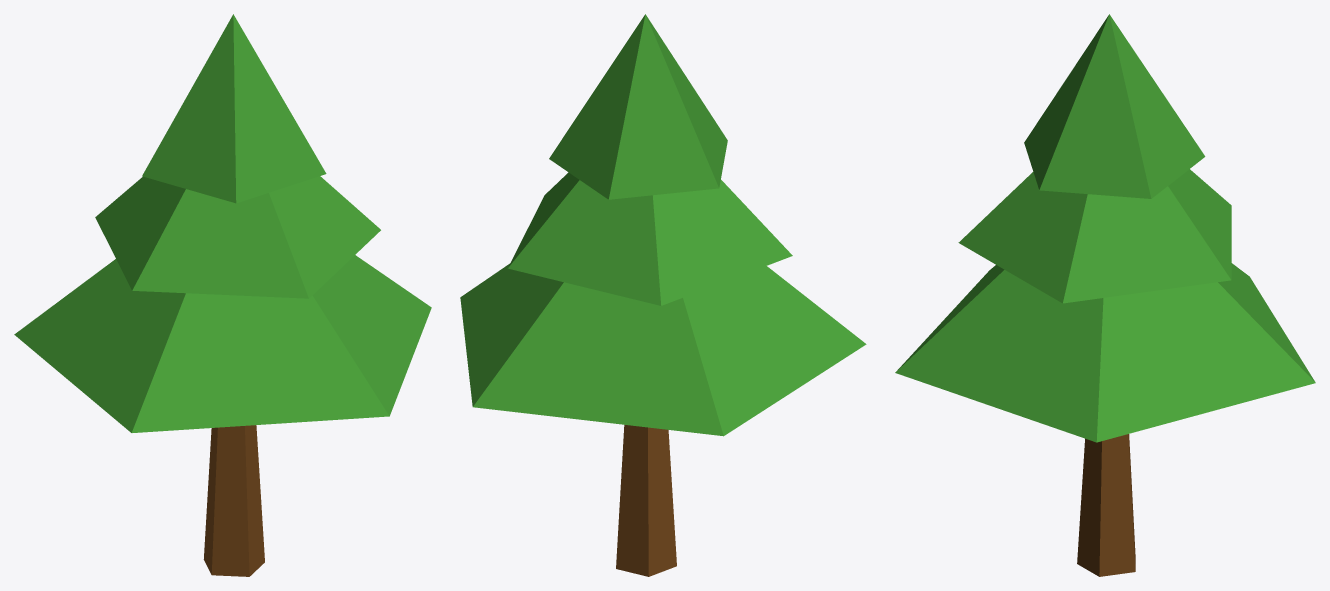
Rendered from tree_1.fbx.
The picture shows the model from 3 angles, left to right: view 1: azimuth 30°, elevation 25°; view 2: azimuth 150°, elevation 25°; view 3: azimuth 270°, elevation 25°; orthographic projection.
Visible parts, largest first — view 1: tree_1; view 2: tree_1; view 3: tree_1.
Boxes of the visible parts, <box> form: tree_1: <box>14,14,431,576</box>; tree_1: <box>460,14,866,576</box>; tree_1: <box>895,14,1315,576</box>.
Bounding box in the file's own units: 87.88 × 131 × 90.71.
